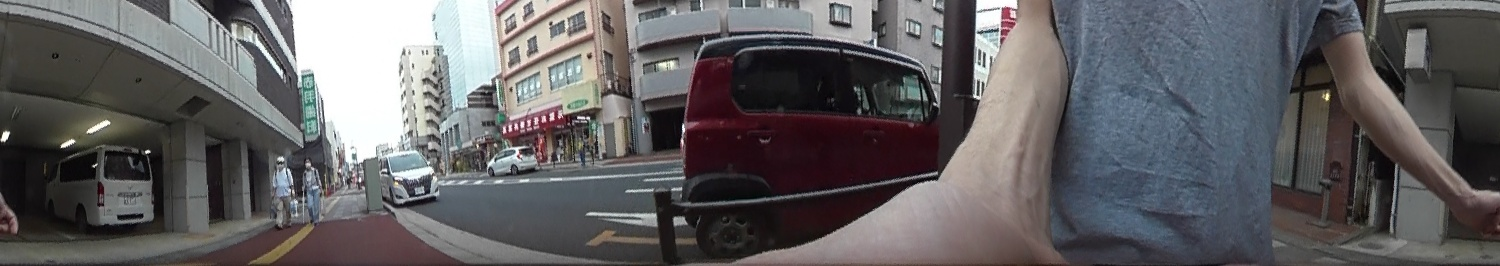difficult_person: (575, 134, 588, 166)
person: (297, 153, 325, 226), (270, 154, 296, 228)
